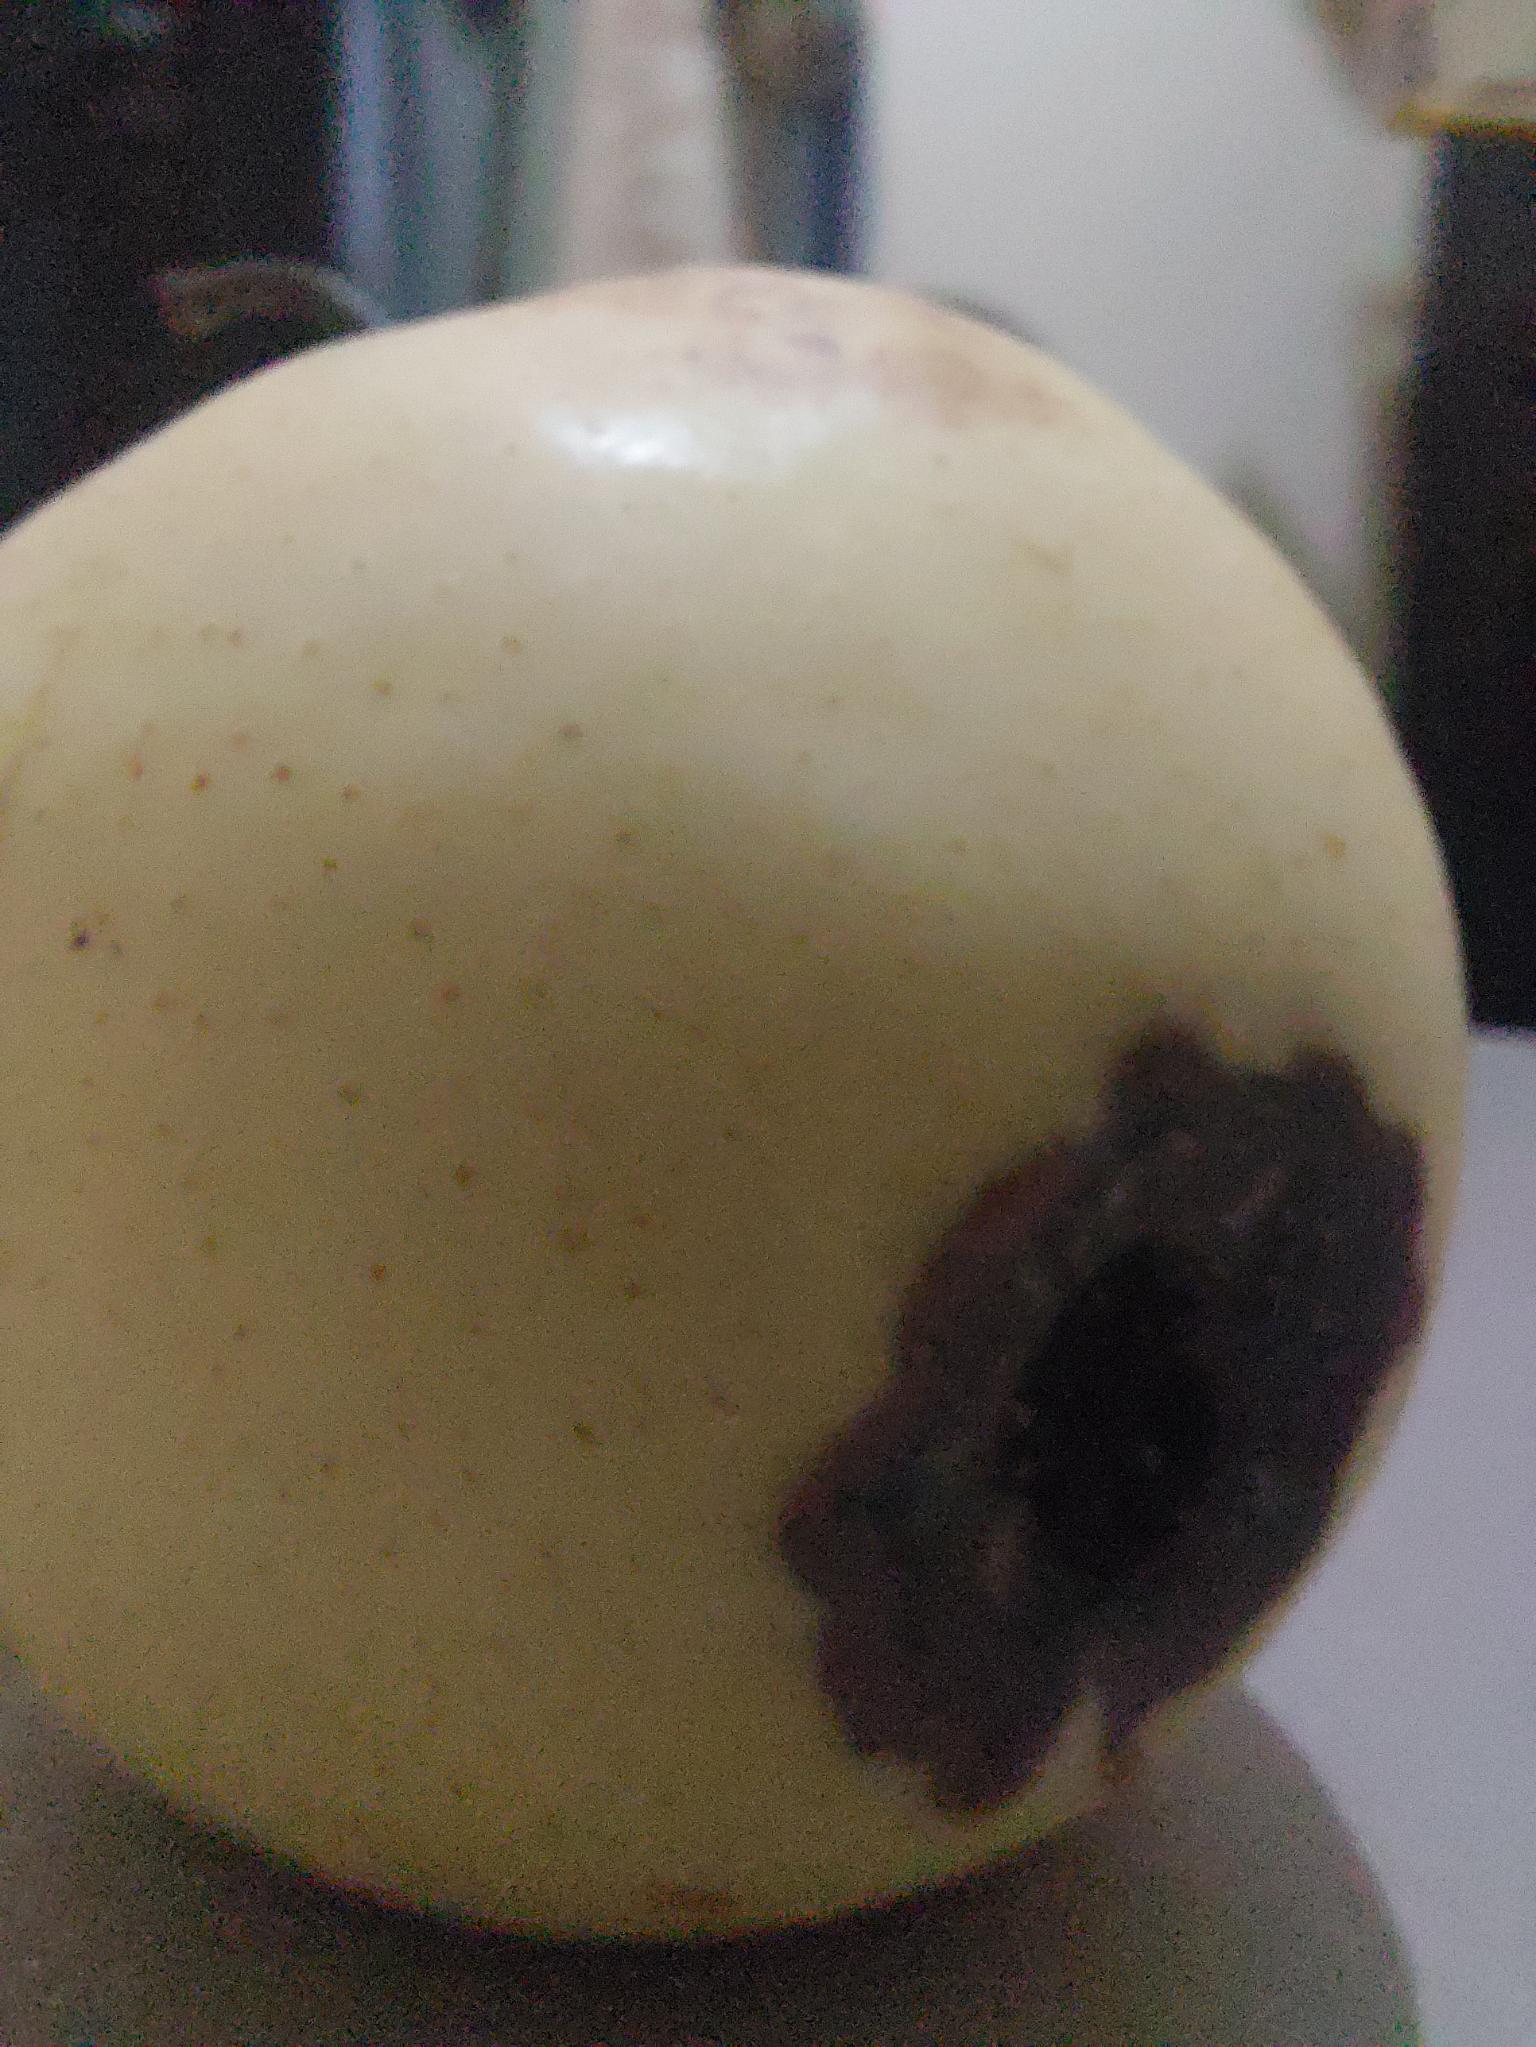Bad Pear: (0, 261, 1480, 1992)
